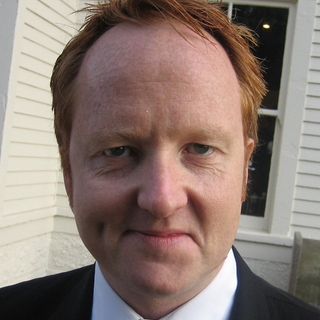eye: (178, 138, 220, 161), (92, 142, 138, 161)
